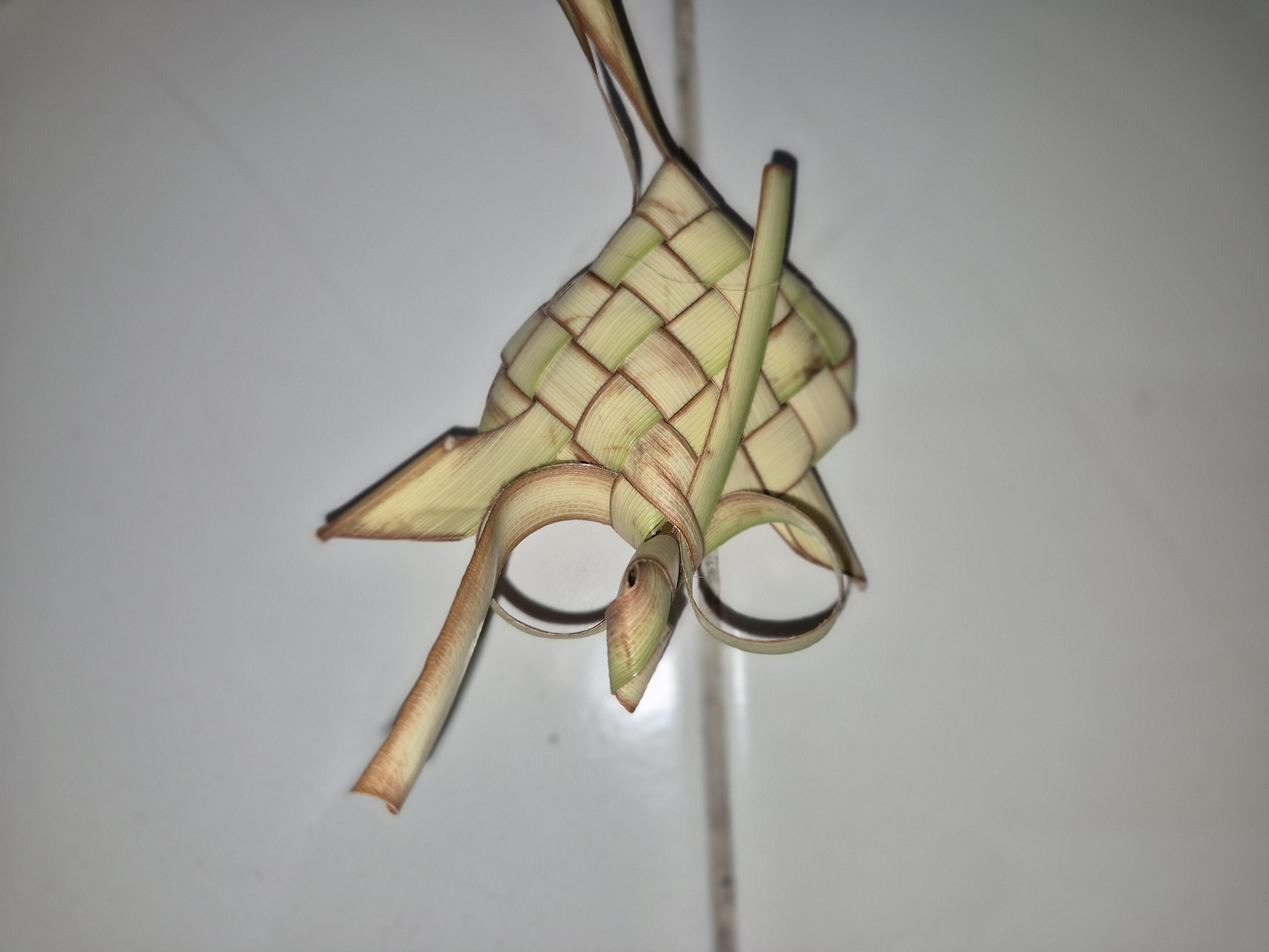Tipat Dampulan: (318, 129, 867, 812)
